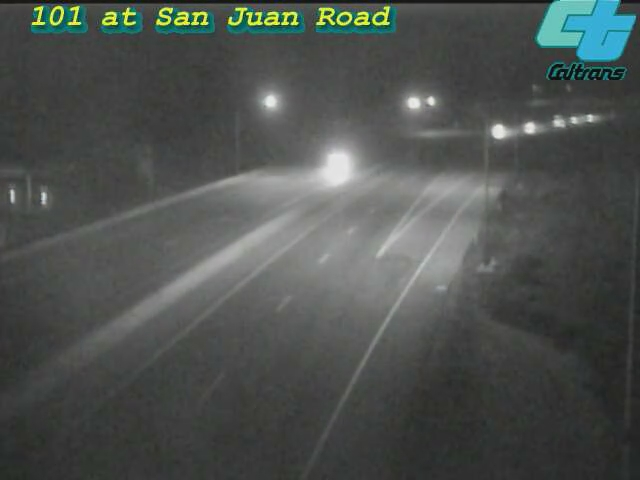vehicle: (296, 126, 376, 206), (563, 94, 613, 144), (550, 94, 600, 144), (537, 96, 587, 146), (506, 104, 556, 154), (474, 106, 524, 156)
